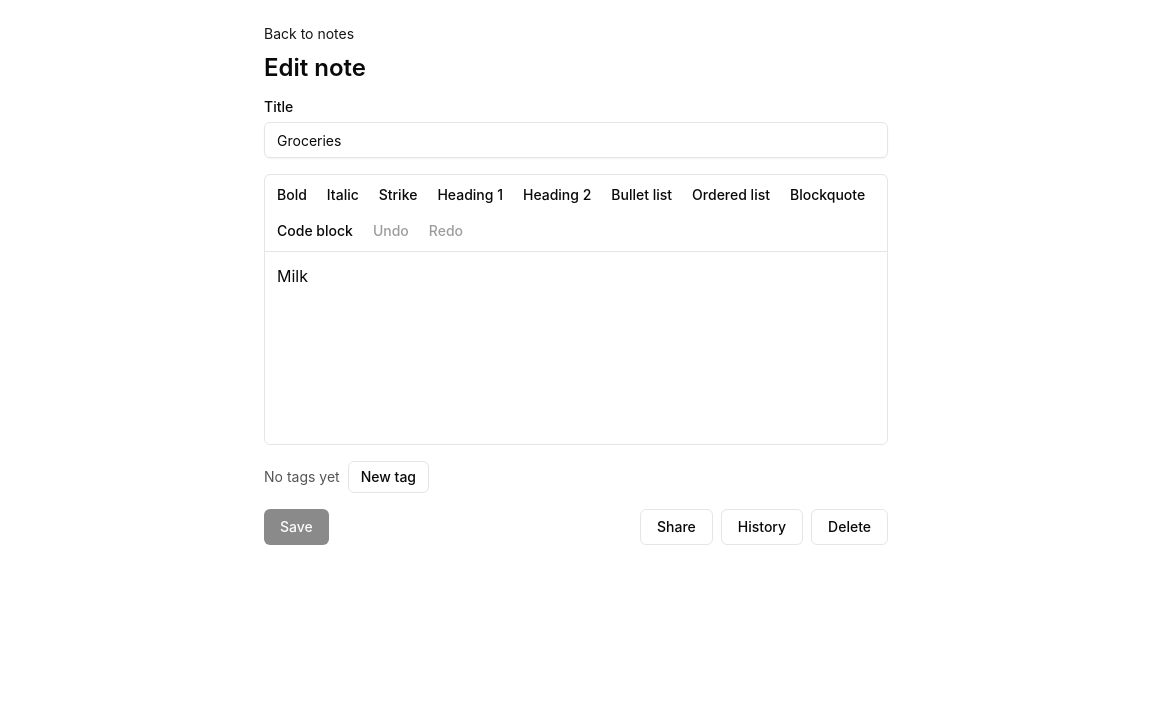
Scenario: NoteEditorPage autosave when leaving › Blank title asks before leaving
The image size is (1152, 720).
expect the field named "Note content" is shown: met, box left=277, top=266, right=308, bottom=286
Clear the field labelled "Title" at (576, 140), box left=264, top=122, right=888, bottom=158
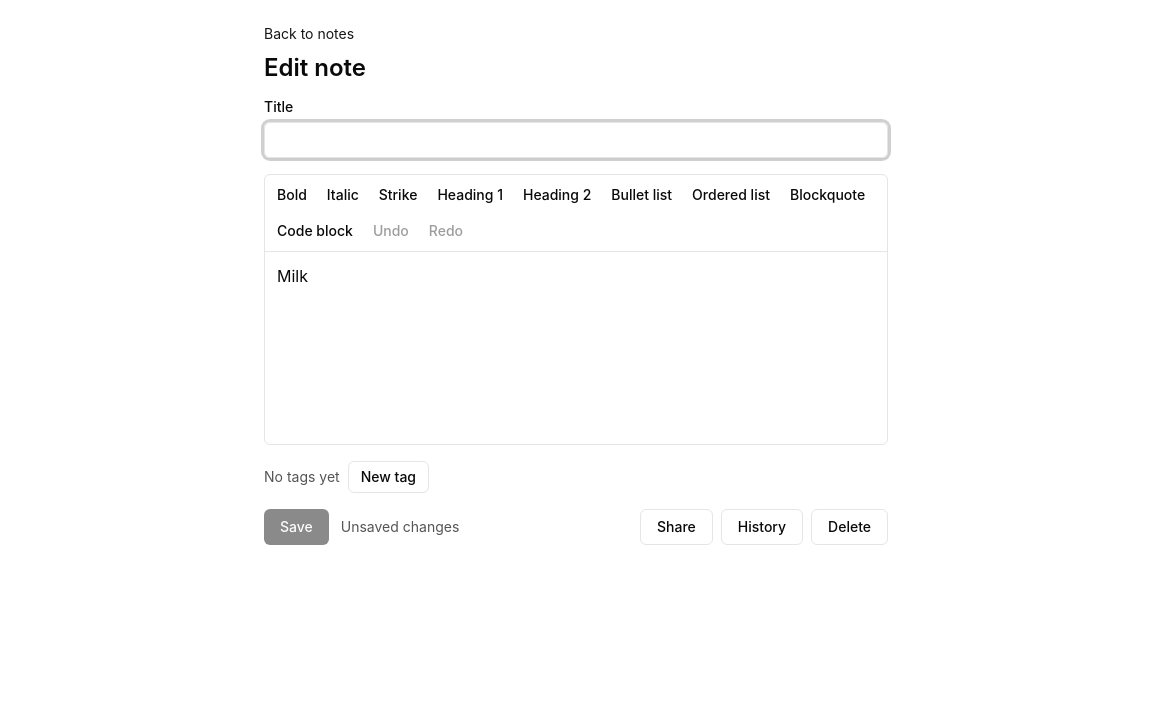
Click the link "Back to notes" at (309, 34), box left=264, top=25, right=354, bottom=42
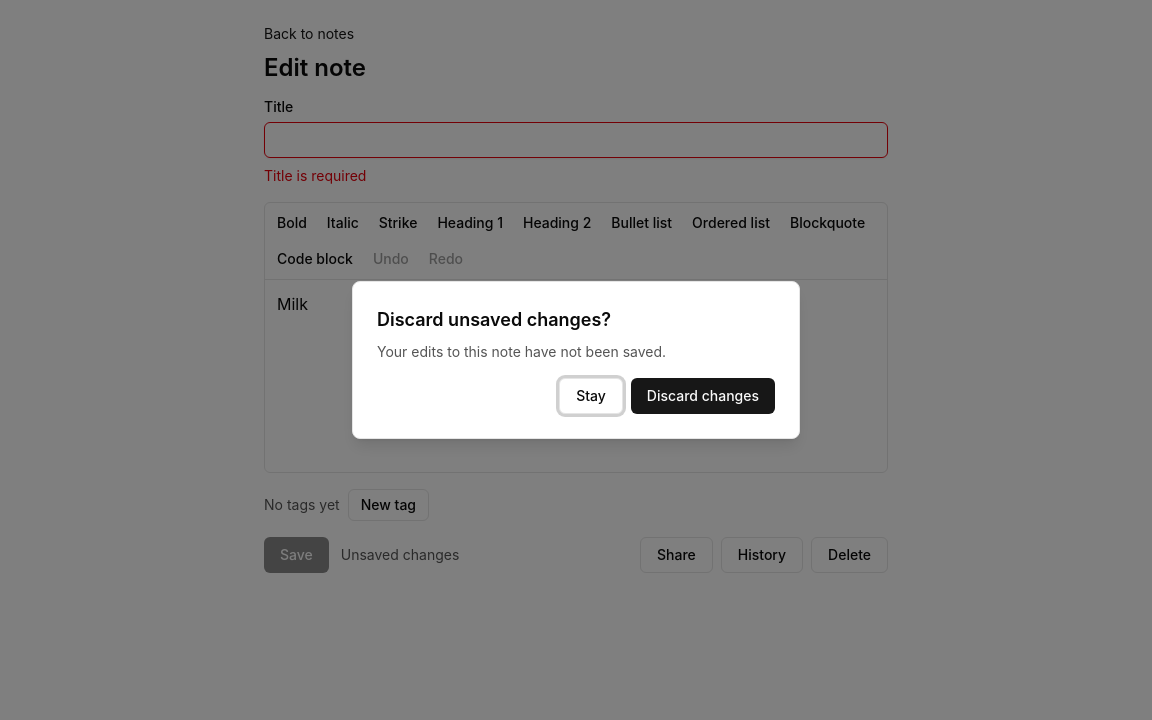
expect the button "Stay" is shown: met, box left=559, top=378, right=623, bottom=414
expect the button "Discard changes" is shown: met, box left=631, top=378, right=775, bottom=414
